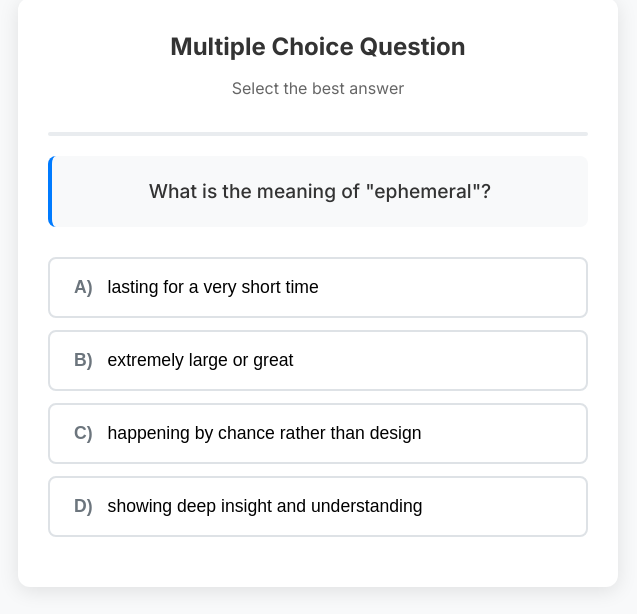
Test: MultipleChoice › handles incorrect answer selection
The width and height of the screenshot is (637, 614).
Click the button "B) extremely large or great" at x=200, y=360, box x1=48 y1=330 x2=588 y2=391
Wait 2000 ms
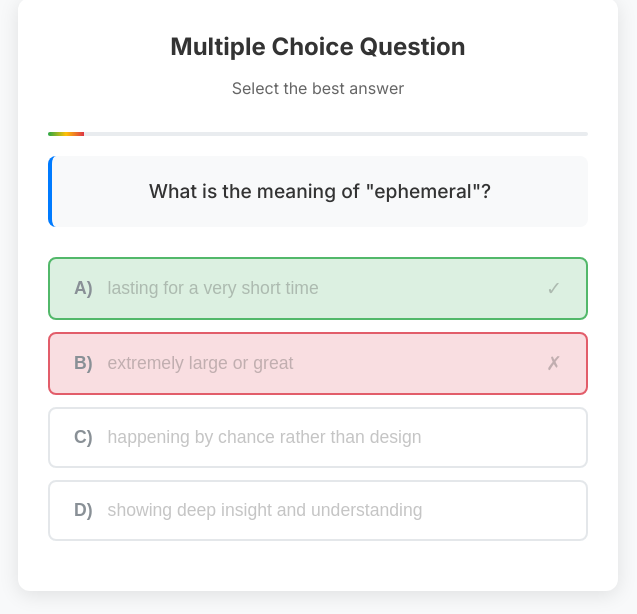
Now the text "✗" is shown, box x1=546 y1=352 x2=562 y2=375
